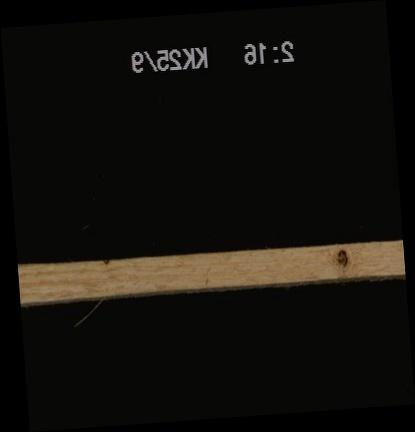dry_knot: (333, 246, 351, 269)
edge_knot: (96, 258, 114, 268)
